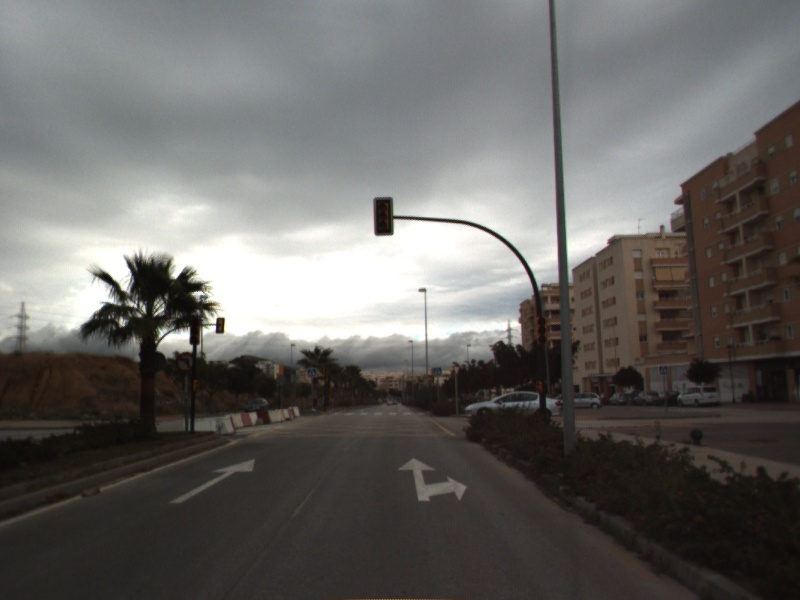STRAIGHT: (168, 457, 256, 505)
STRAIGHT_RIGHT: (396, 456, 470, 503)
